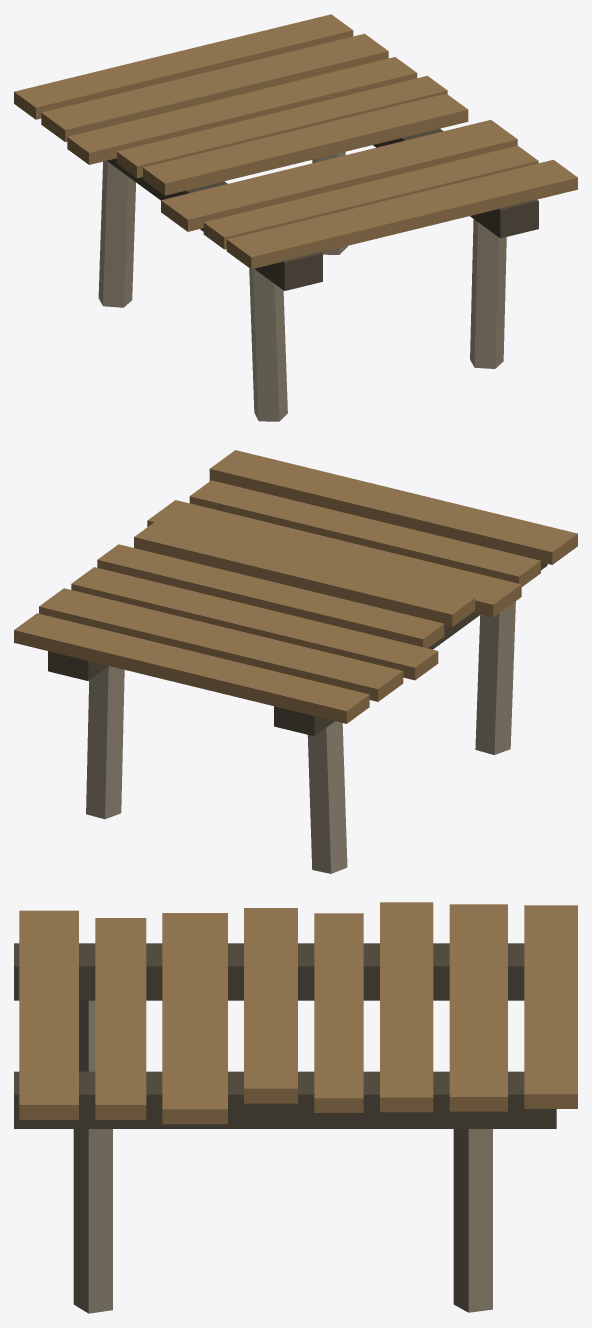
The model's file is Duckboards.fbx.
3 views of the same model, one above another, from view 1: azimuth 30°, elevation 25°; view 2: azimuth 150°, elevation 25°; view 3: azimuth 270°, elevation 25° (orthographic). The views are drawn at different scales.
Visible parts, largest first — view 1: Duckboards; view 2: Duckboards; view 3: Duckboards.
Part boxes in pixels (bbox=[...]): Duckboards: bbox=[14, 14, 577, 421]; Duckboards: bbox=[14, 450, 577, 873]; Duckboards: bbox=[14, 902, 577, 1313].
Size of the model in its own units: 0.8856 by 0.4921 by 1.04.
